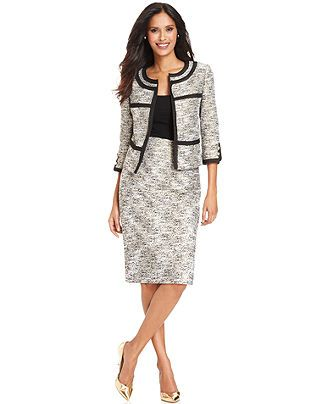F_W_suit jacket: (110, 58, 234, 186)
